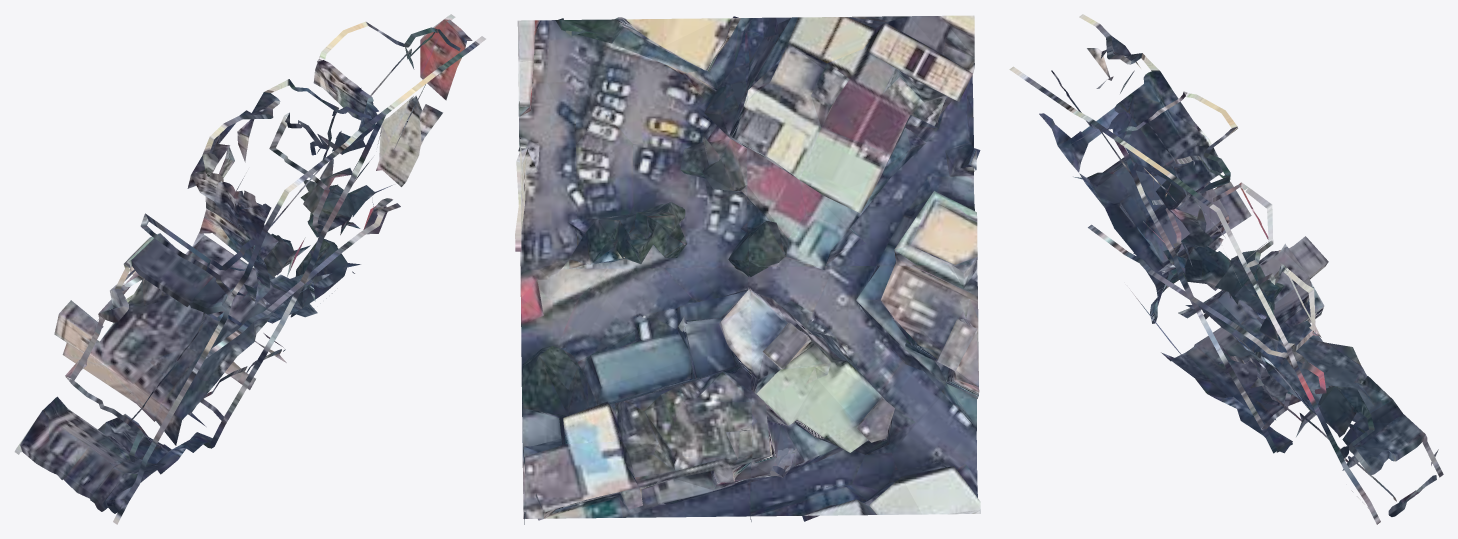
The picture shows the model from 3 angles, left to right: view 1: azimuth 30°, elevation 25°; view 2: azimuth 150°, elevation 25°; view 3: azimuth 270°, elevation 25°; orthographic projection. The views are drawn at different scales.
Size of the model in its own units: 86.48 by 76.18 by 76.13.
1 material, 1 textured.
